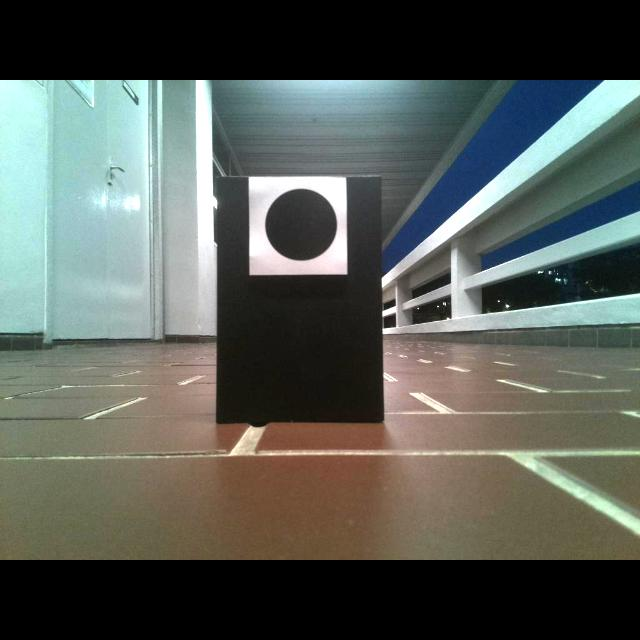CIRCLE: (265, 189, 336, 260)
